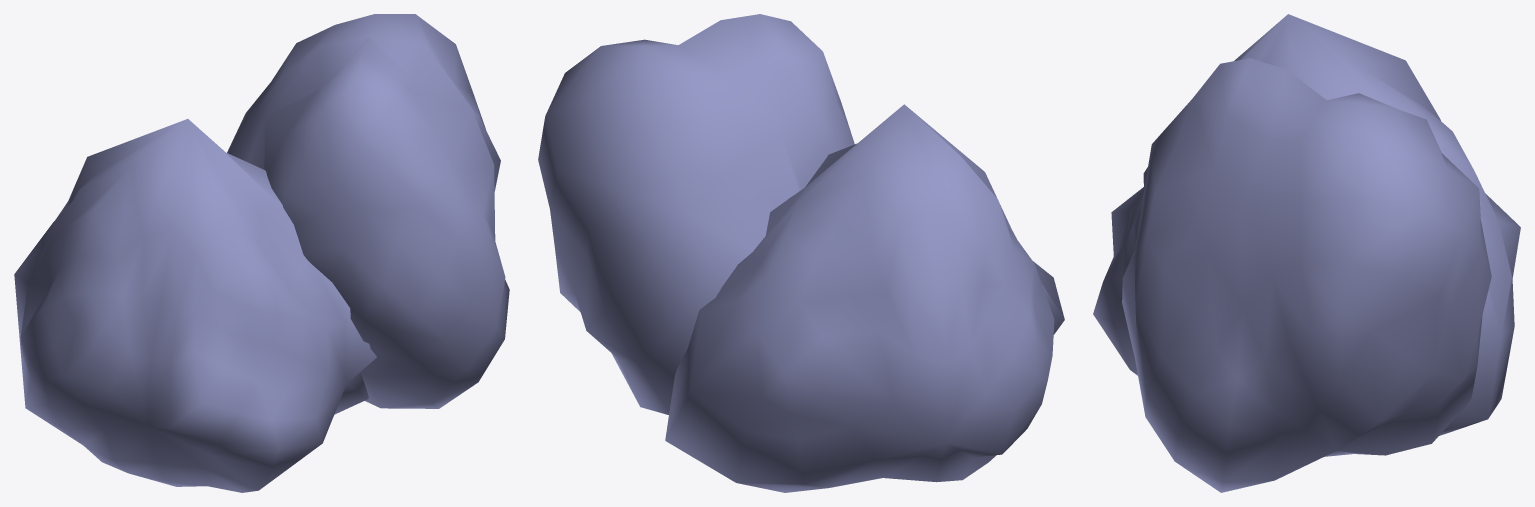
File: rocks_a.fbx
3 renders of one model, left to right at view 1: azimuth 30°, elevation 25°; view 2: azimuth 150°, elevation 25°; view 3: azimuth 270°, elevation 25°, orthographic. The views are drawn at different scales.
Parts seen in each view (by area): view 1: rock.005; view 2: rock.005; view 3: rock.005.
Part boxes in pixels (x1,y1,x2,y2): rock.005: (14,14,509,492); rock.005: (538,14,1064,492); rock.005: (1093,14,1520,492).
Size of the model in its own units: 39.8 by 31.93 by 28.35.
